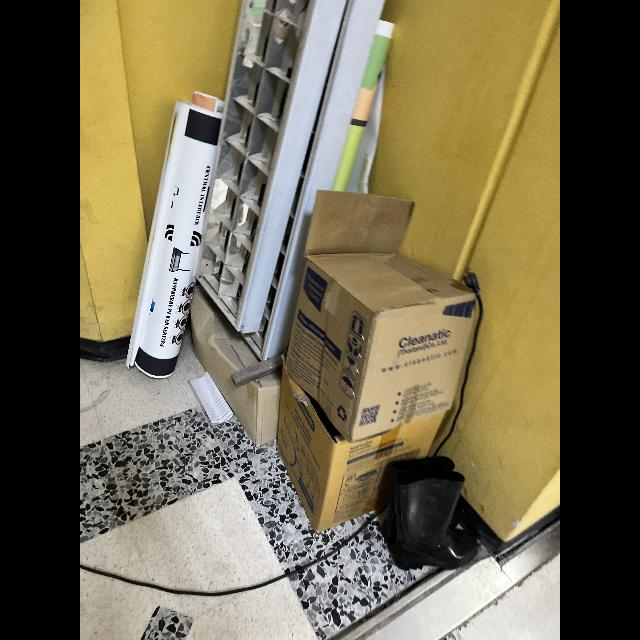cardboard_box: (284, 187, 476, 433), (260, 376, 448, 536), (188, 264, 282, 448)
